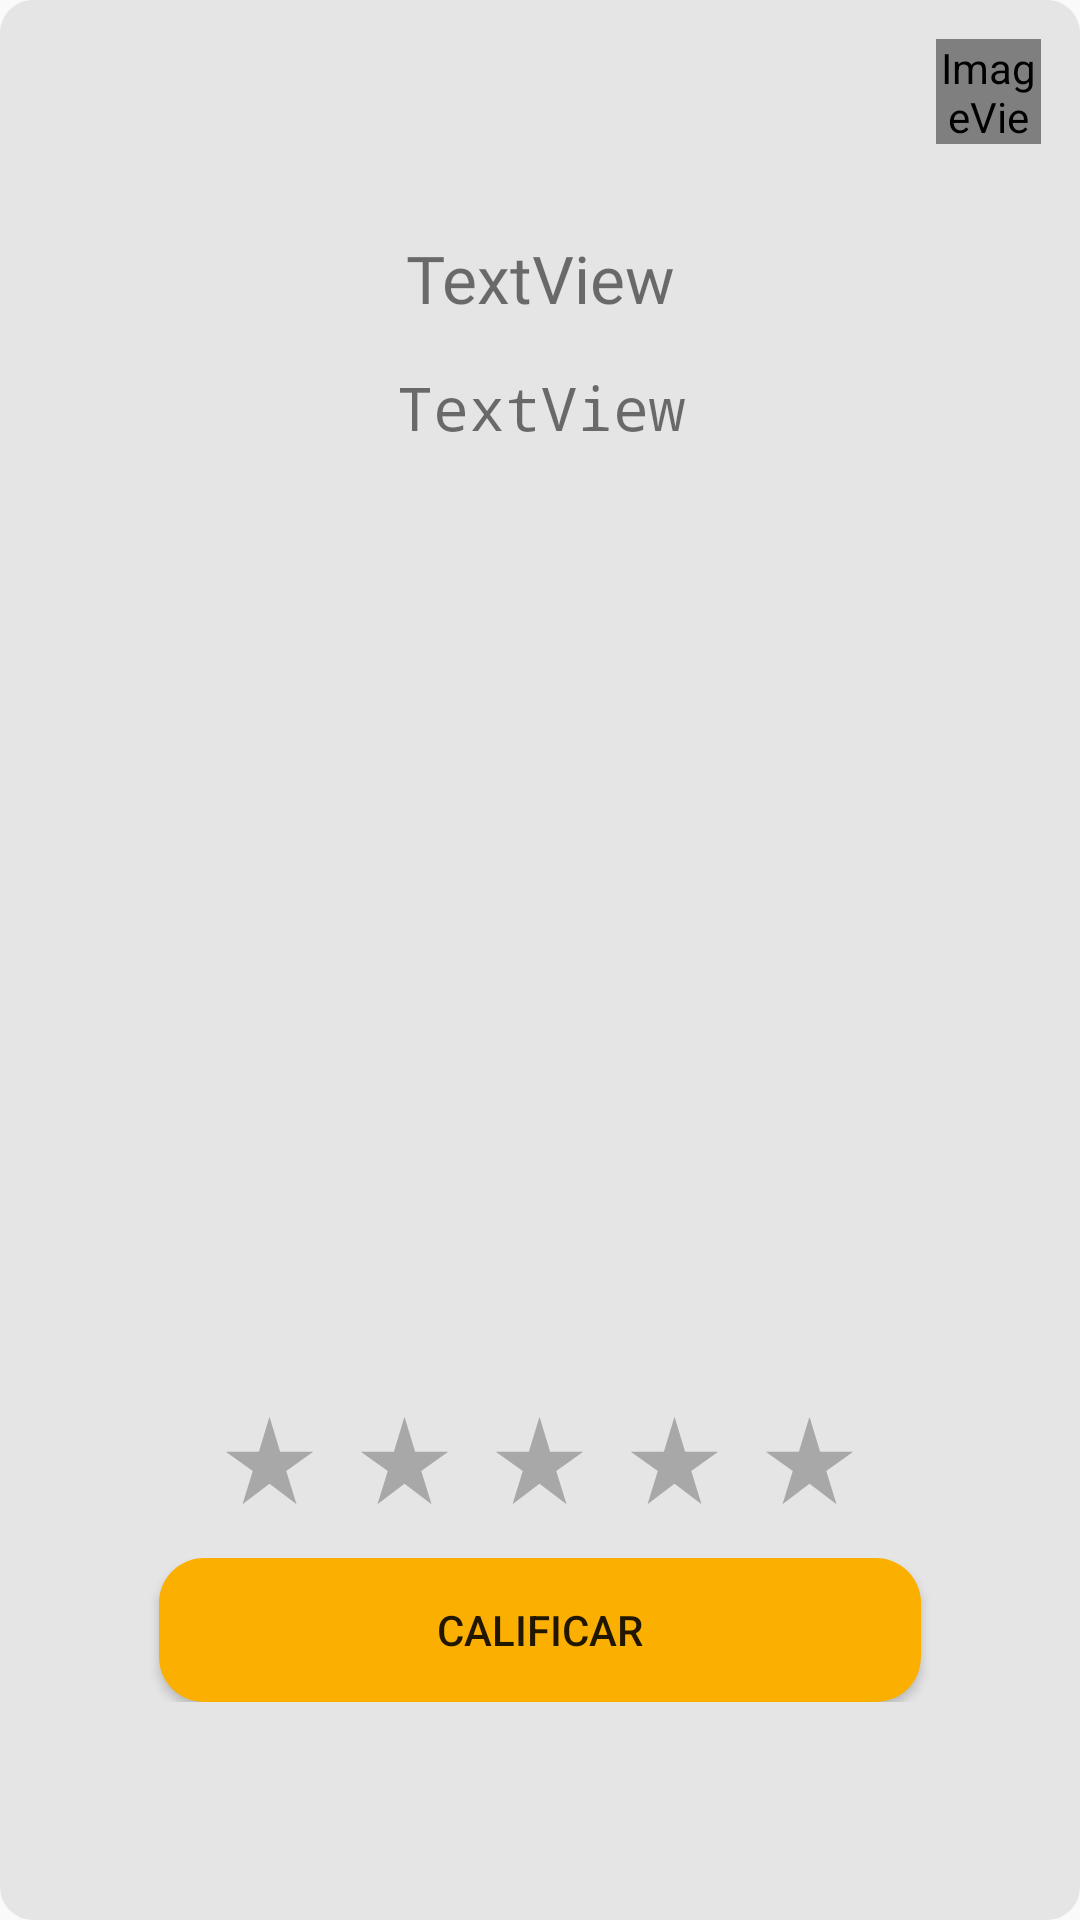

Icon click points for this 1080x1920 phone screenshot, format (x=x, y=y):
star rate: (x=269, y=1460), (x=404, y=1460), (x=539, y=1460), (x=674, y=1460), (x=809, y=1460)
